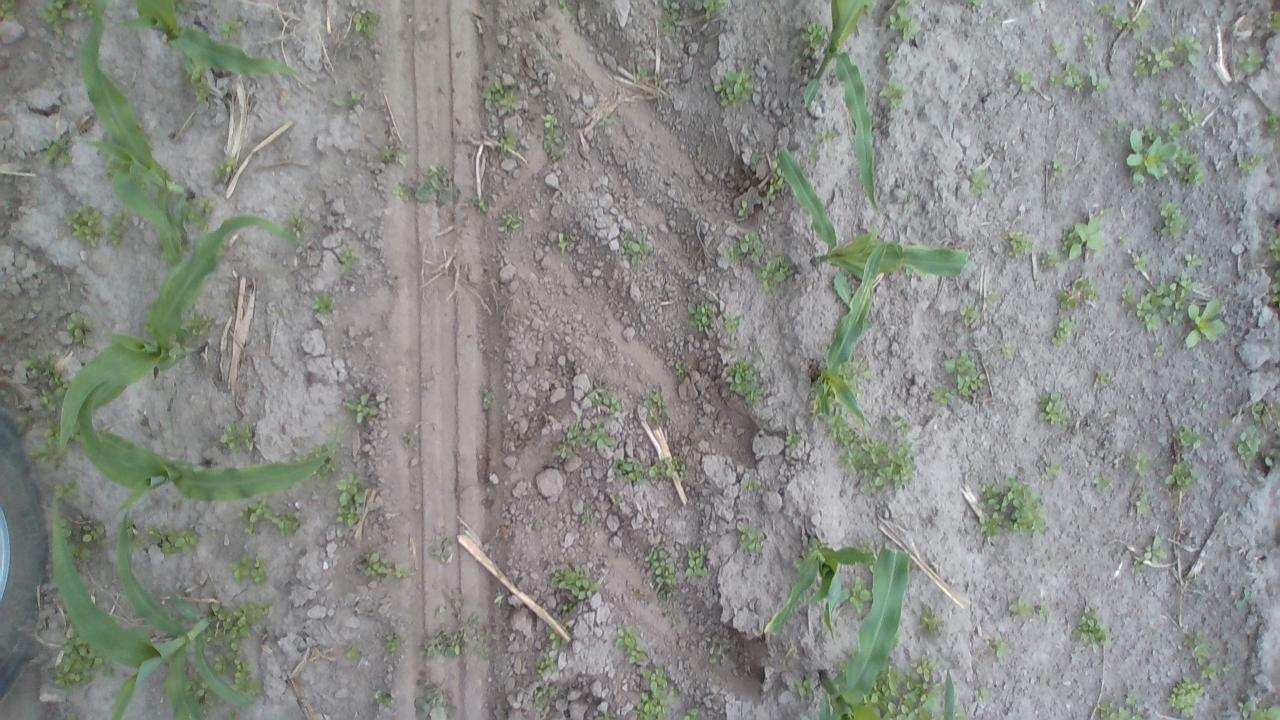Maize: (59, 214, 304, 461), (50, 487, 252, 720), (78, 391, 340, 519), (87, 0, 195, 261), (774, 144, 970, 286), (801, 0, 878, 209), (117, 0, 300, 80), (808, 236, 886, 420), (764, 546, 874, 642), (810, 664, 849, 720), (942, 665, 961, 720)
Weeds: (1118, 278, 1208, 340), (206, 600, 273, 673), (976, 480, 1050, 540), (842, 435, 915, 491), (886, 654, 941, 720), (48, 633, 106, 690), (426, 613, 492, 662), (1121, 128, 1177, 184), (542, 561, 610, 607), (1060, 204, 1112, 263), (239, 498, 302, 538), (397, 165, 452, 210), (27, 352, 66, 414), (642, 544, 684, 600), (1184, 295, 1229, 347), (1098, 0, 1156, 39), (941, 349, 988, 396), (1180, 626, 1217, 684), (1158, 88, 1200, 138), (330, 470, 366, 528), (143, 524, 204, 558), (712, 68, 763, 108), (63, 514, 104, 562), (1048, 64, 1110, 94), (61, 202, 102, 246), (1070, 604, 1108, 650), (1057, 273, 1104, 310), (751, 254, 796, 292), (356, 554, 416, 582), (612, 625, 654, 665), (881, 0, 921, 42), (1165, 676, 1202, 718), (229, 551, 271, 587), (484, 76, 520, 116), (65, 312, 100, 352), (411, 686, 452, 720), (1128, 538, 1166, 574), (31, 1, 70, 36), (726, 360, 761, 398), (797, 22, 829, 62), (182, 60, 213, 101), (1094, 697, 1149, 720), (29, 422, 59, 463), (1134, 46, 1172, 78), (806, 123, 838, 161), (218, 420, 258, 450), (738, 520, 772, 555), (582, 419, 616, 454), (1162, 459, 1198, 492), (588, 386, 624, 418), (723, 232, 761, 262), (44, 134, 80, 165), (622, 229, 652, 266), (551, 422, 581, 459), (1158, 202, 1188, 239), (1178, 142, 1204, 184), (1170, 32, 1202, 66), (846, 576, 876, 612), (645, 458, 688, 483), (230, 659, 261, 693), (629, 693, 668, 720), (1040, 391, 1070, 426), (1235, 40, 1263, 77), (106, 209, 131, 250), (824, 414, 856, 446), (1128, 438, 1152, 480), (1239, 426, 1263, 468), (1170, 425, 1210, 450), (333, 86, 367, 115), (187, 198, 216, 232), (873, 668, 900, 704), (684, 546, 712, 580), (342, 396, 376, 423), (842, 358, 868, 393), (1239, 698, 1280, 720), (640, 387, 669, 418), (879, 78, 907, 109), (918, 598, 944, 631), (353, 8, 383, 36), (1252, 400, 1280, 429), (50, 477, 80, 504), (1256, 105, 1280, 138), (612, 456, 642, 482), (1054, 317, 1078, 348), (956, 302, 984, 328), (698, 0, 731, 22), (1263, 266, 1280, 308), (659, 7, 684, 35), (1012, 68, 1036, 97), (768, 159, 786, 197), (499, 128, 525, 154), (1004, 232, 1030, 258), (688, 300, 712, 328), (974, 289, 1004, 311), (530, 682, 561, 703), (642, 666, 668, 691), (211, 160, 238, 184), (1256, 235, 1280, 262), (1261, 7, 1278, 44), (313, 290, 337, 316), (886, 413, 910, 439), (1126, 248, 1152, 272), (188, 312, 211, 339), (499, 210, 524, 234), (969, 164, 988, 194), (218, 16, 243, 38), (1103, 122, 1128, 144), (1006, 597, 1032, 618), (544, 625, 564, 652), (337, 246, 359, 270), (1037, 455, 1061, 477), (1038, 250, 1062, 272), (380, 142, 400, 168), (722, 313, 746, 334), (1134, 492, 1152, 519), (0, 1, 22, 23), (1240, 156, 1264, 176), (382, 631, 404, 652), (796, 679, 816, 702), (1047, 160, 1069, 180), (1094, 471, 1114, 493), (75, 0, 97, 20), (542, 133, 562, 154), (1093, 368, 1112, 390), (674, 358, 690, 384), (534, 652, 554, 672), (290, 212, 310, 232), (1234, 588, 1252, 610), (1050, 39, 1072, 57), (479, 386, 494, 412), (192, 686, 216, 702), (930, 386, 950, 405), (474, 195, 492, 216), (556, 228, 573, 250), (883, 49, 904, 66), (372, 689, 392, 706), (577, 506, 598, 522), (751, 151, 766, 172), (1083, 30, 1099, 49), (13, 415, 29, 434), (989, 641, 1009, 656), (784, 428, 804, 443), (399, 433, 416, 450), (542, 113, 556, 133), (744, 475, 762, 490), (634, 64, 648, 82), (858, 538, 876, 552), (342, 645, 357, 661), (1218, 410, 1232, 427), (556, 605, 574, 618), (737, 199, 748, 220), (952, 706, 968, 720), (1186, 253, 1200, 269), (720, 344, 738, 356), (1220, 660, 1234, 674), (974, 686, 988, 700), (682, 708, 698, 718), (492, 593, 504, 606), (1034, 604, 1048, 614), (434, 604, 448, 614), (962, 0, 982, 7), (1001, 344, 1014, 354), (224, 710, 239, 718), (1117, 233, 1127, 243), (1154, 347, 1162, 356), (1264, 459, 1274, 464)
